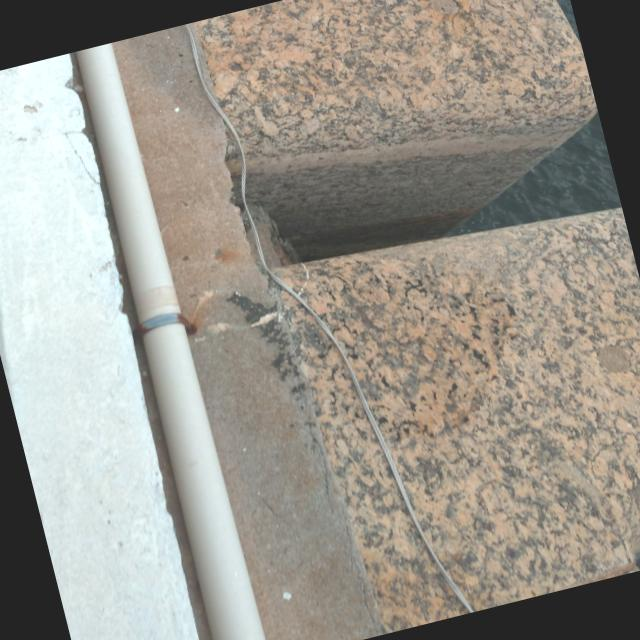gas: (68, 44, 271, 640)
